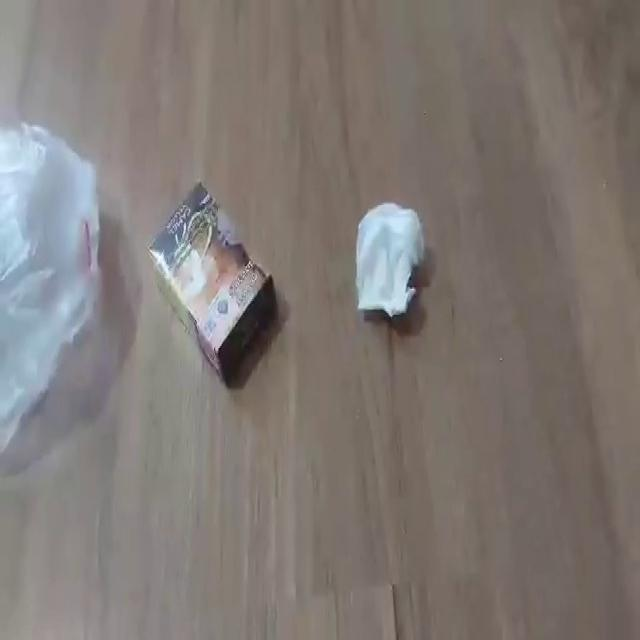Anorganik: (1, 113, 107, 464)
Organik: (147, 172, 283, 395), (353, 196, 427, 324)
